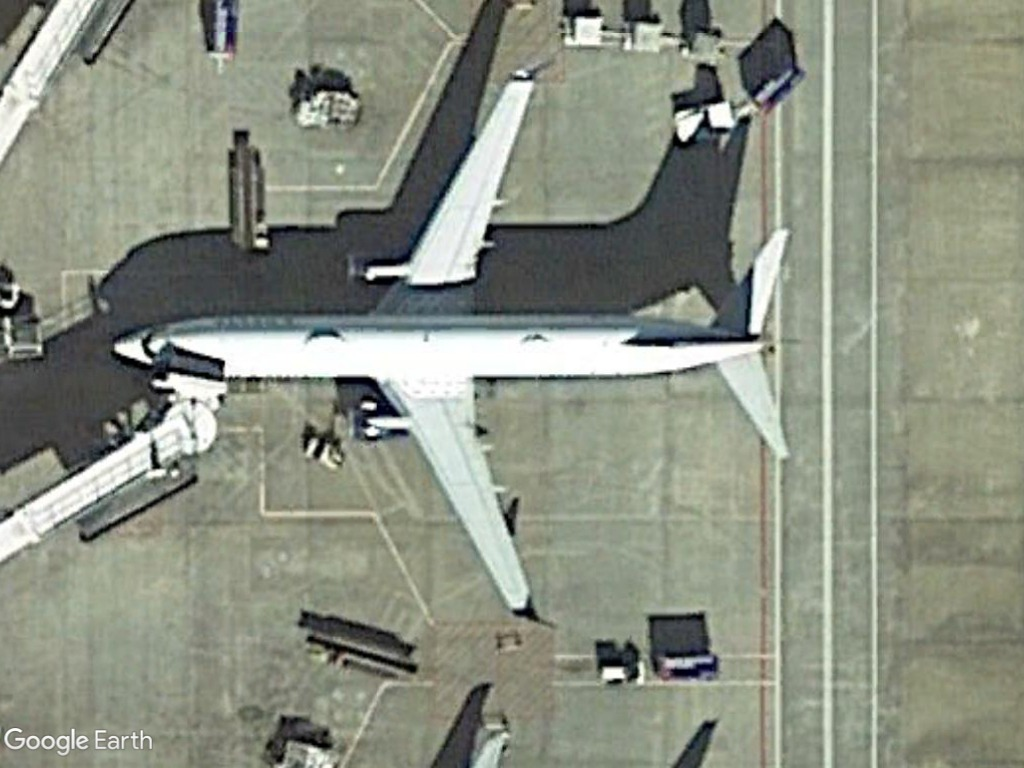airliner: (107, 74, 799, 624)
